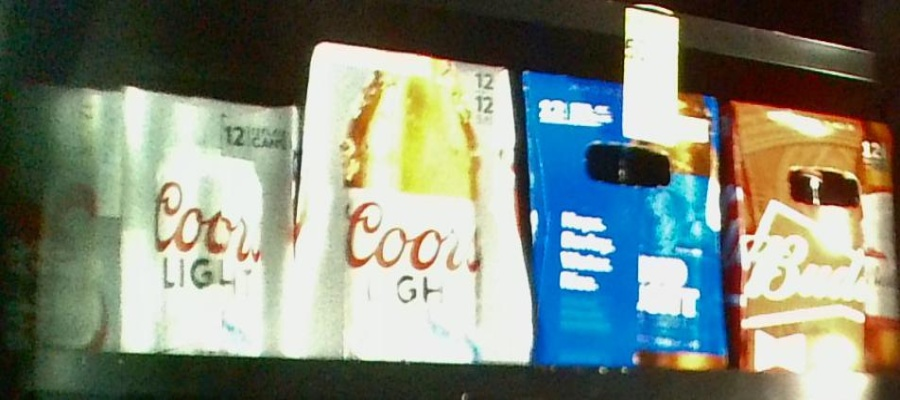bottle: (300, 45, 529, 365), (523, 70, 729, 368), (729, 101, 900, 374), (123, 87, 295, 357), (1, 85, 119, 355)
